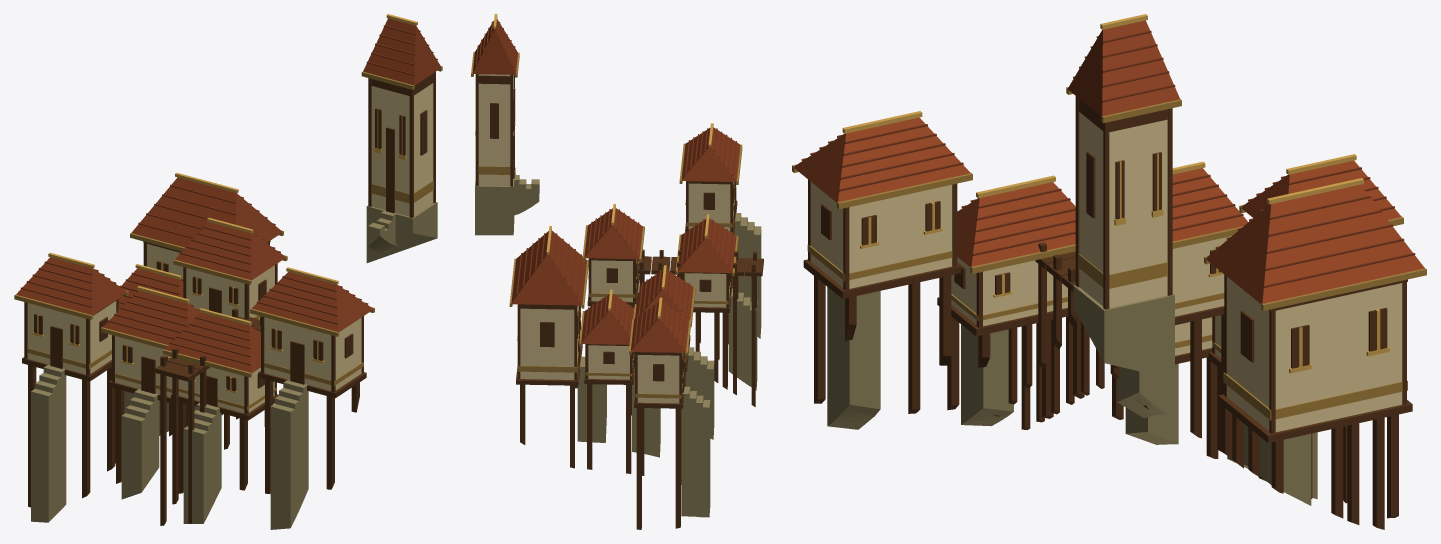
The model's file is manila.obj.
3 views of the same model, side by side, from view 1: azimuth 30°, elevation 25°; view 2: azimuth 150°, elevation 25°; view 3: azimuth 270°, elevation 25° (orthographic). The views are drawn at different scales.
Parts seen in each view (by area): view 1: manila; view 2: manila; view 3: manila.
Part boxes in pixels (x1,y1,x2,y2): manila: (14,14,442,529); manila: (471,14,763,529); manila: (792,14,1426,529).
Bounding box in the file's own units: 12.61 × 16.58 × 13.76.
